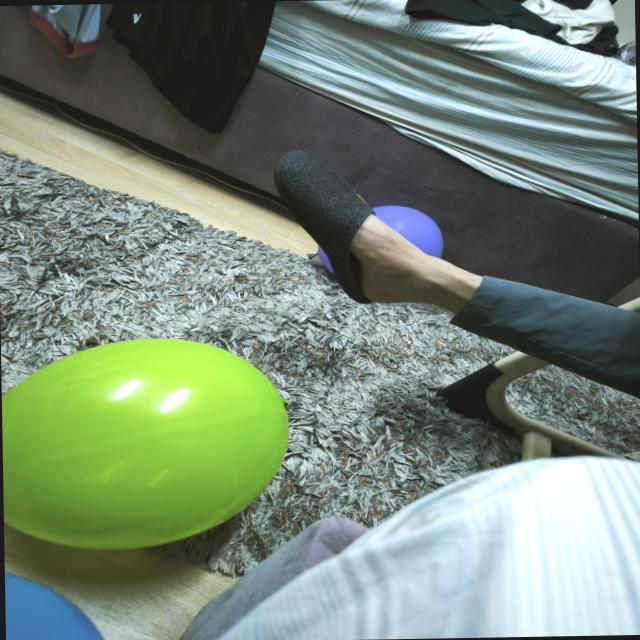balloon: (1, 339, 288, 548), (314, 204, 444, 272)
